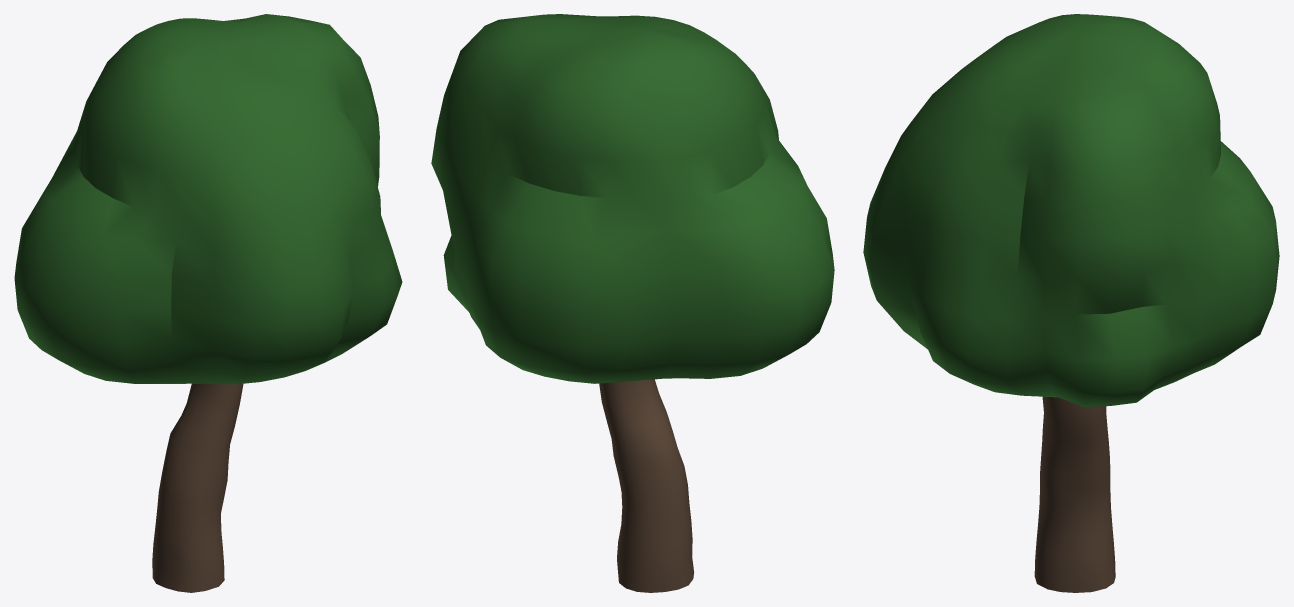
File: tree-1-1.fbx
3 views of the same model, side by side, from view 1: azimuth 30°, elevation 25°; view 2: azimuth 150°, elevation 25°; view 3: azimuth 270°, elevation 25° (orthographic). The views are drawn at different scales.
Visible parts, largest first — view 1: Leaves, Trunk; view 2: Leaves, Trunk; view 3: Leaves, Trunk.
Part boxes in pixels (x1,y1,x2,y2): Leaves: (14,14,402,384); Trunk: (152,383,243,592); Leaves: (431,14,834,383); Trunk: (599,379,694,592); Leaves: (863,14,1279,406); Trunk: (1034,396,1115,592).
Size of the model in its own units: 194 by 278 by 189.
